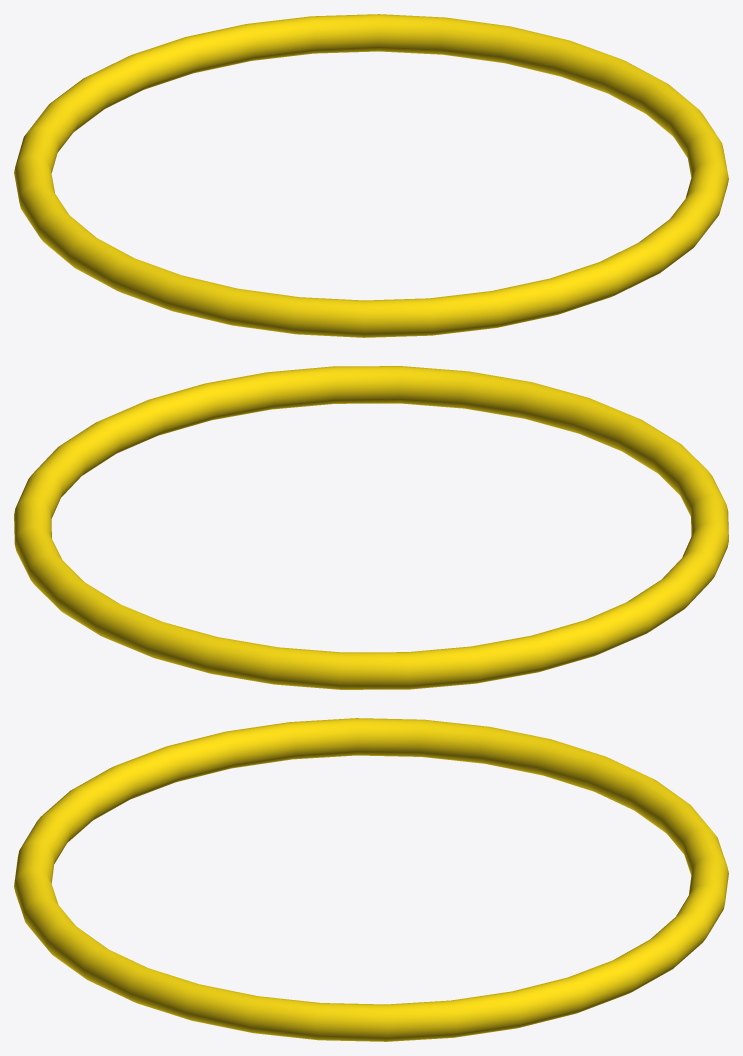
3 renders of one model, top to bottom at view 1: azimuth 30°, elevation 25°; view 2: azimuth 150°, elevation 25°; view 3: azimuth 270°, elevation 25°, orthographic.
Parts seen in each view (by area): view 1: Torus.001; view 2: Torus.001; view 3: Torus.001.
Part boxes in pixels (x1,y1,x2,y2): Torus.001: (14, 14, 728, 337); Torus.001: (14, 366, 728, 689); Torus.001: (14, 718, 728, 1041).
Bounding box in the file's own units: 54.89 × 54.89 × 2.88.
